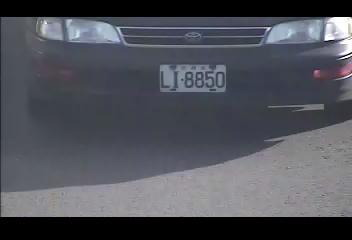plate: (157, 62, 227, 94)
